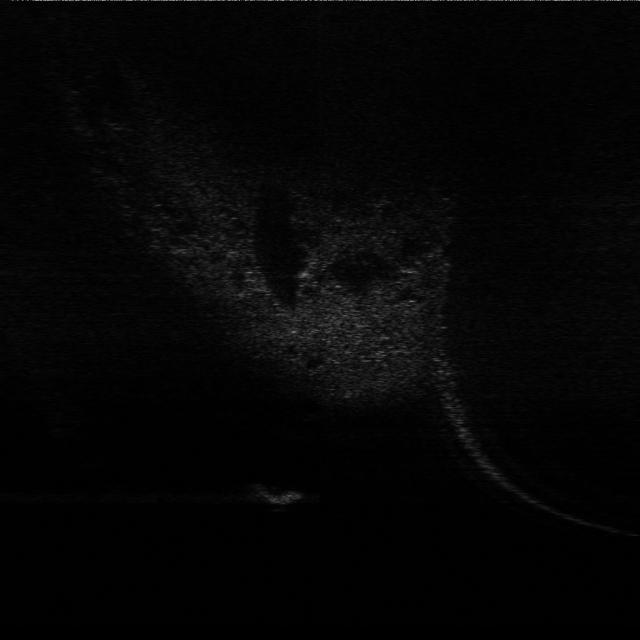square cage: (243, 470, 313, 510)
